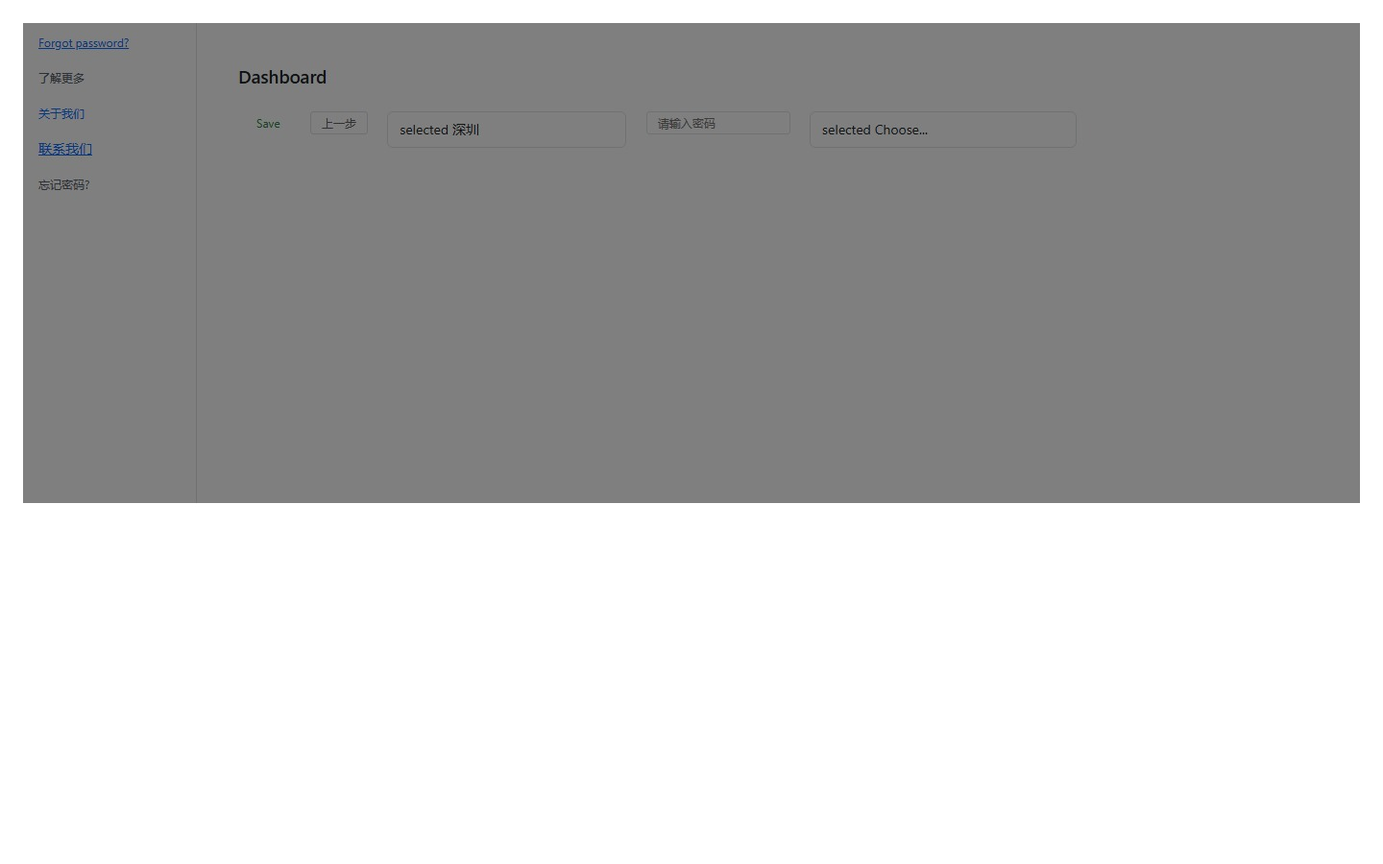button: (310, 111, 368, 134), (246, 112, 291, 133)
input: (646, 111, 790, 134)
link: (38, 35, 129, 50), (38, 139, 92, 157), (38, 177, 90, 192), (38, 70, 85, 85), (38, 106, 85, 121)
modal: (23, 23, 1360, 503)
select: (810, 111, 1077, 148), (387, 111, 626, 148)
